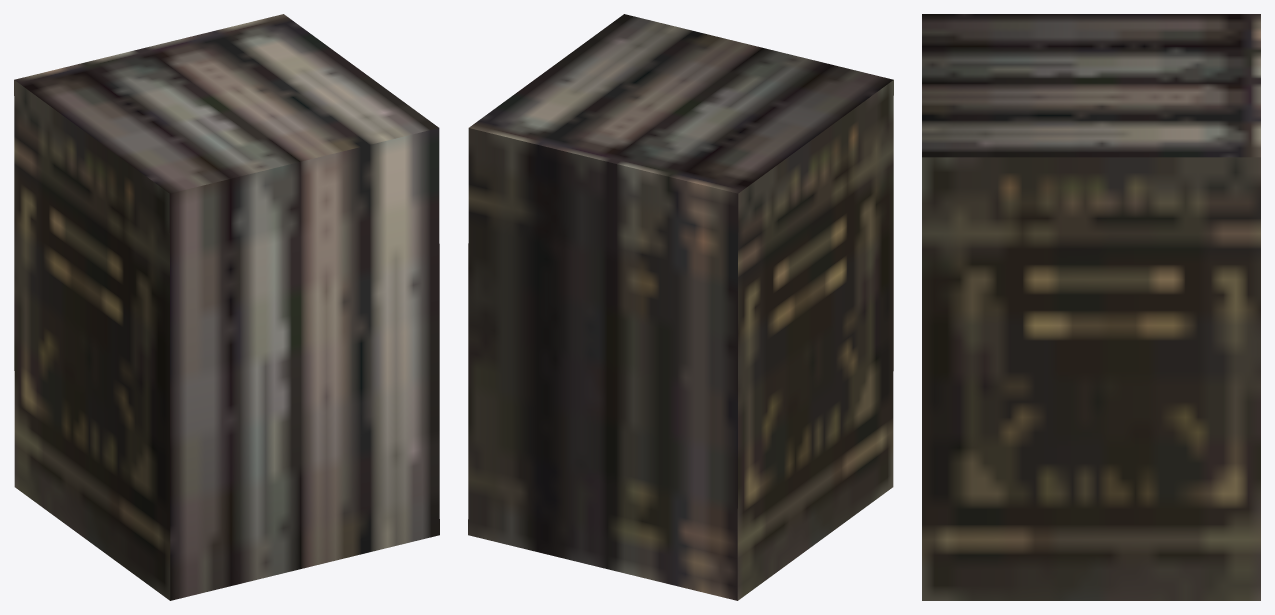
The model's file is OZ_20_wv_books03A.glb.
3 views of the same model, side by side, from view 1: azimuth 30°, elevation 25°; view 2: azimuth 150°, elevation 25°; view 3: azimuth 270°, elevation 25° (orthographic). The views are drawn at different scales.
Visible parts, largest first — view 1: OM_20_wv_books03A; view 2: OM_20_wv_books03A; view 3: OM_20_wv_books03A.
Boxes of the visible parts, bbox=[...] form: OM_20_wv_books03A: bbox=[14, 14, 439, 600]; OM_20_wv_books03A: bbox=[468, 14, 893, 600]; OM_20_wv_books03A: bbox=[922, 14, 1260, 600].
Bounding box in the file's own units: 0.2718 × 0.3918 × 0.2713.
Materials: 1 (1 with a texture image).
